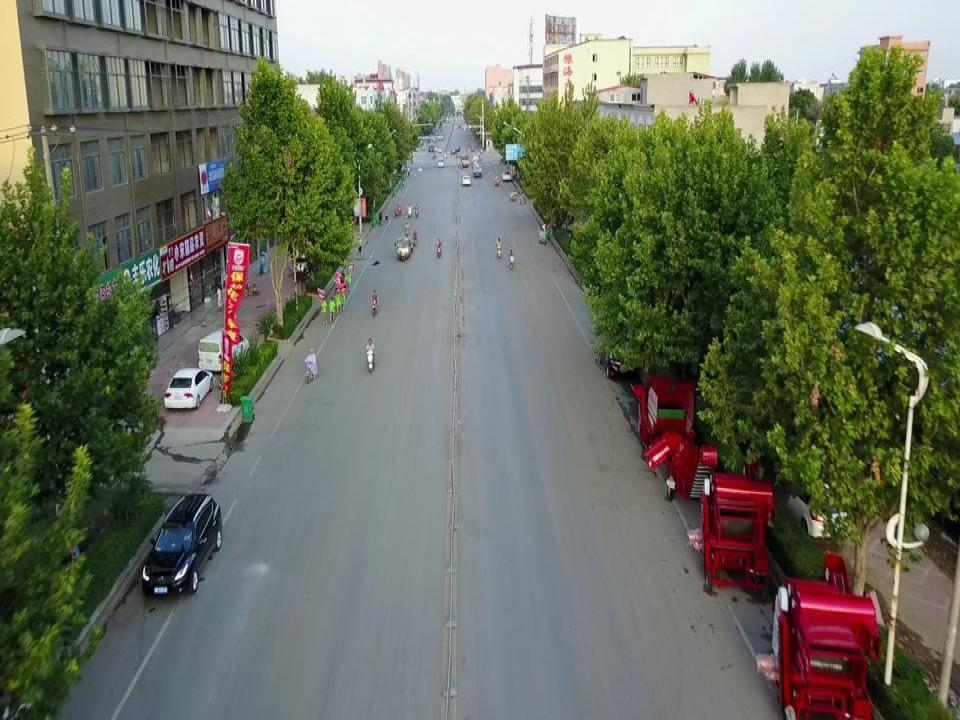car: (142, 492, 224, 597), (767, 473, 850, 544), (163, 367, 213, 412), (597, 340, 638, 381), (501, 170, 511, 182), (471, 154, 480, 166), (461, 175, 470, 185), (437, 157, 444, 168), (427, 144, 434, 152)
truck: (471, 162, 482, 178), (459, 153, 470, 167)
van: (197, 325, 253, 375)
